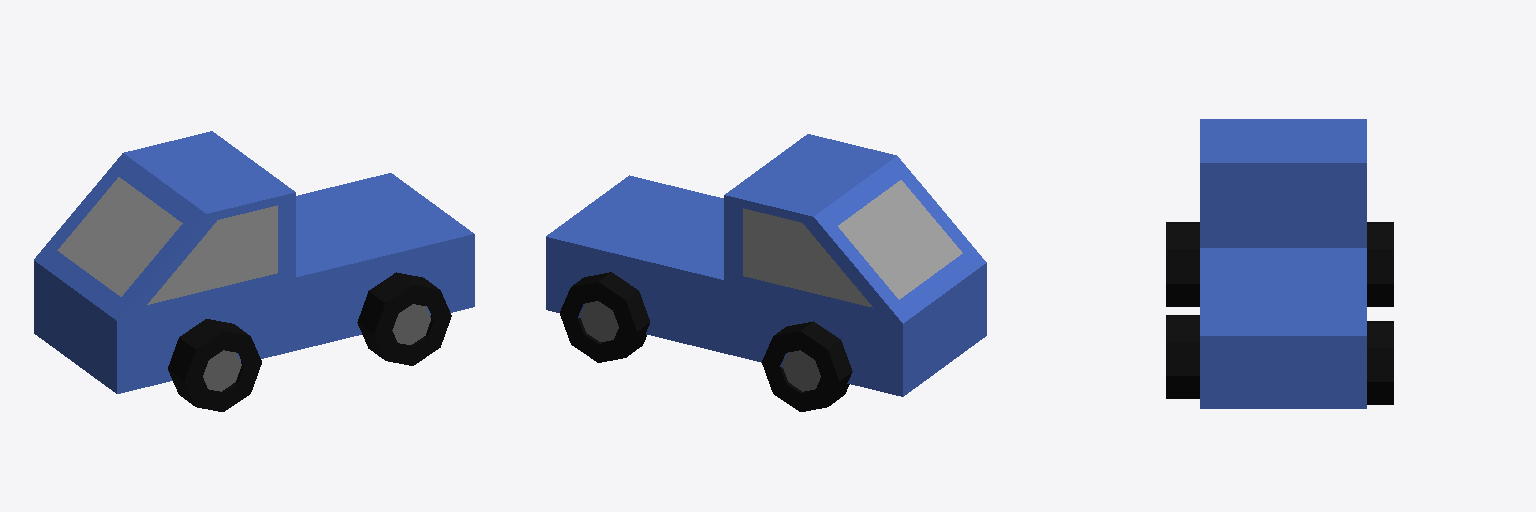
Rendered from Car.obj.
3 views of the same model, side by side, from view 1: azimuth 30°, elevation 25°; view 2: azimuth 150°, elevation 25°; view 3: azimuth 270°, elevation 25° (orthographic).
Visible parts, largest first — view 1: Car_Body, WindSheild, CarWindows, Tire.001, Tire, Cylinder.002, Cylinder.001; view 2: Car_Body, WindSheild, CarWindows, Tire.002, Tire.003, Cylinder.004, Cylinder.003; view 3: Car_Body, Tire.001, Tire, Tire.002, Tire.003.
Part boxes in pixels (left/top/right/bottom): Car_Body: left=34, top=131, right=474, bottom=393; WindSheild: left=57, top=177, right=182, bottom=296; CarWindows: left=147, top=205, right=277, bottom=304; Tire.001: left=168, top=319, right=261, bottom=411; Tire: left=357, top=272, right=451, bottom=365; Cylinder.002: left=203, top=350, right=241, bottom=391; Cylinder.001: left=392, top=304, right=430, bottom=344; Car_Body: left=546, top=134, right=986, bottom=396; WindSheild: left=838, top=180, right=962, bottom=299; CarWindows: left=743, top=208, right=872, bottom=307; Tire.002: left=762, top=321, right=852, bottom=411; Tire.003: left=560, top=272, right=649, bottom=362; Cylinder.004: left=580, top=301, right=618, bottom=341; Cylinder.003: left=782, top=350, right=820, bottom=391; Car_Body: left=1200, top=119, right=1366, bottom=408; Tire.001: left=1166, top=222, right=1199, bottom=306; Tire: left=1166, top=315, right=1199, bottom=398; Tire.002: left=1367, top=222, right=1393, bottom=306; Tire.003: left=1367, top=321, right=1393, bottom=404.
Size of the model in its own units: 2.72 by 1.35 by 1.5.